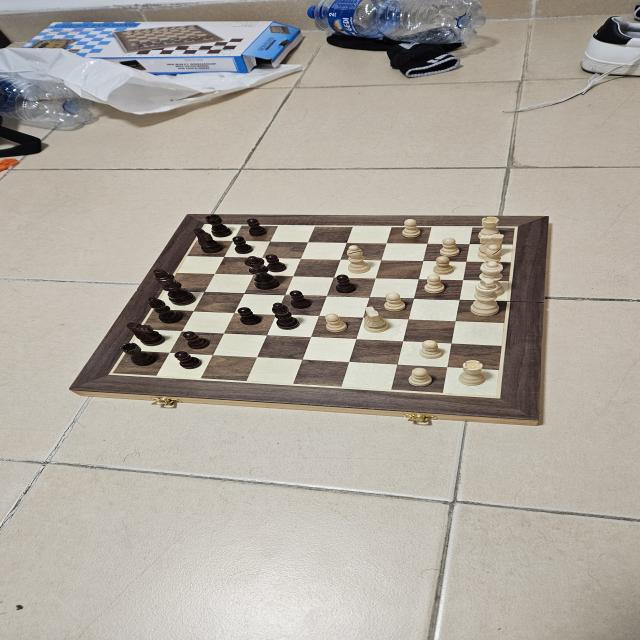chess-table-corners: (486, 392, 504, 400), (508, 224, 523, 231), (106, 371, 119, 376), (202, 223, 208, 226)
